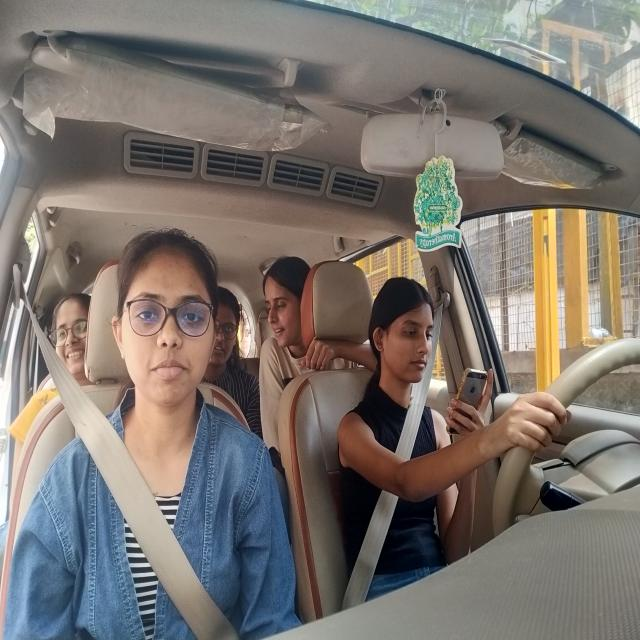mobile: (448, 366, 490, 441)
person: (107, 225, 217, 408), (367, 278, 435, 388), (256, 254, 307, 352), (49, 290, 86, 379), (208, 287, 244, 365)
